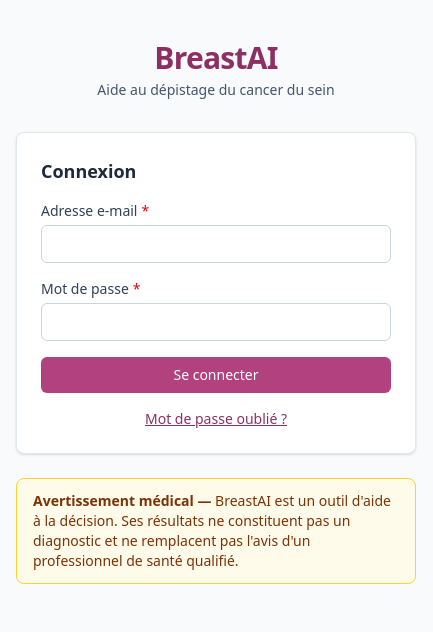
Test: Connexion › affiche le message du serveur quand les identifiants sont faux
In the field labelled "Adresse e-mail*": (216, 244) [41,225,391,263], type "inconnu@breastai.td"
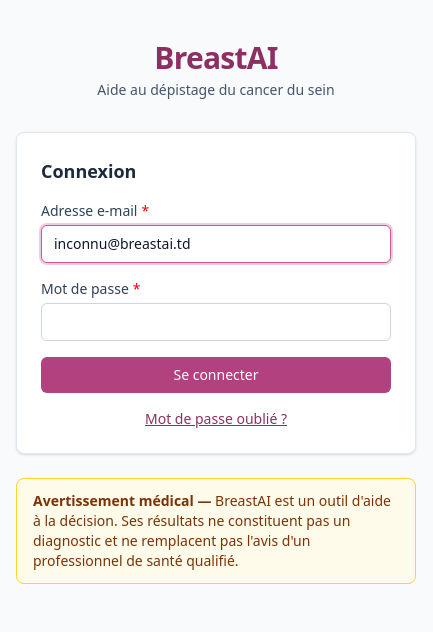
In the password field labelled "Mot de passe*": (216, 322) [41,303,391,341], type "mauvais-mot-de-passe"
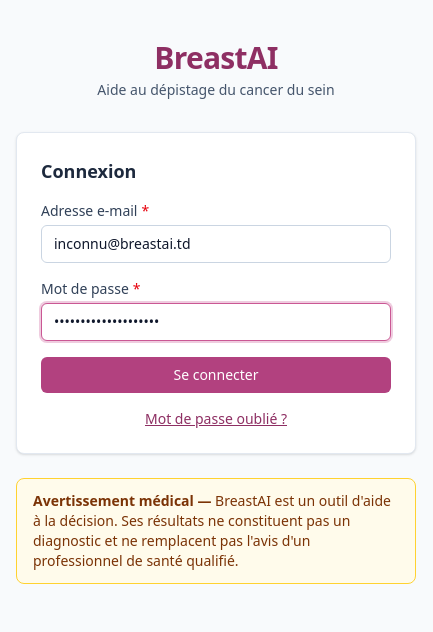
Click the button "Se connecter": (216, 375) [41,357,391,393]
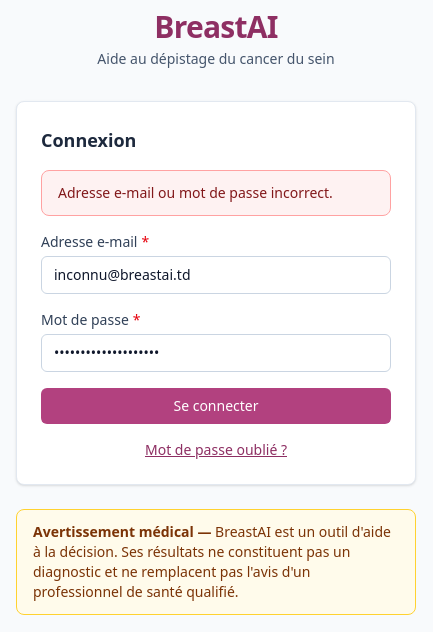
Result: the text "Adresse e-mail ou mot de passe incorrect." is shown at [41,170,391,216]
